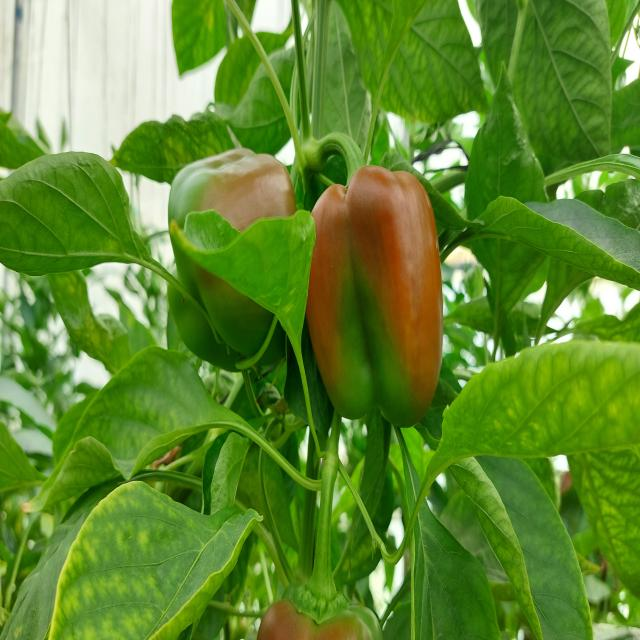BrownishRed--Can-be-Harvested: (305, 178, 448, 406), (160, 154, 298, 352)
